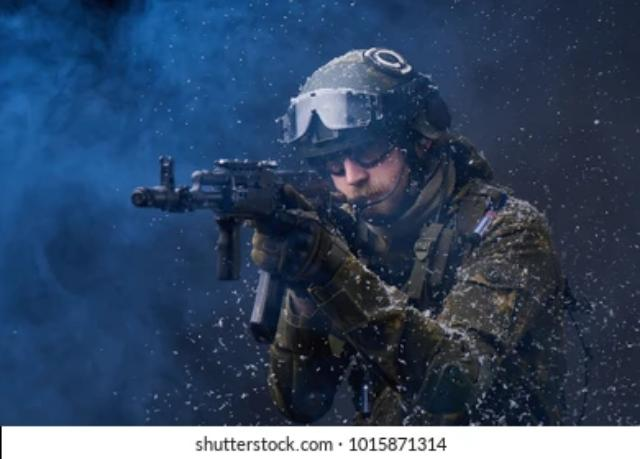other: (269, 52, 575, 421)
